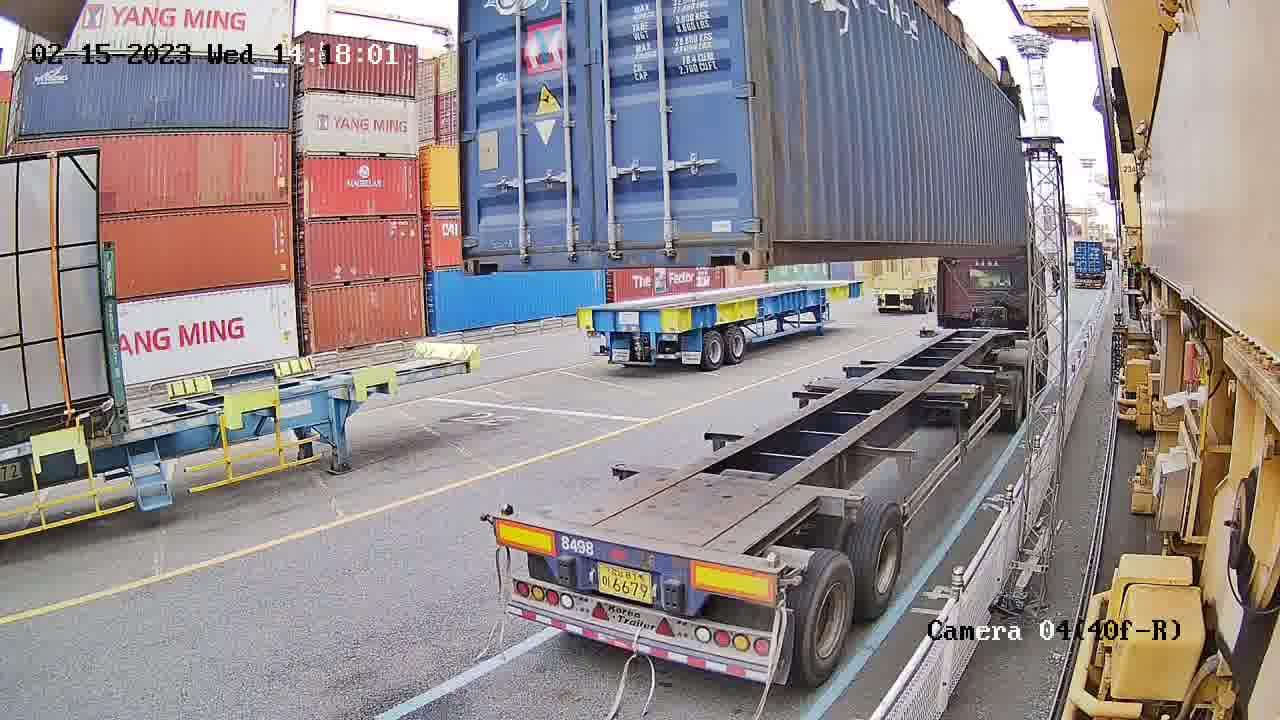Chassis: (495, 519, 783, 617)
Cone: (765, 549, 790, 604), (492, 501, 518, 521)
Hole_L: (758, 200, 810, 267), (460, 214, 501, 275)
Hole_R: (693, 201, 757, 268)
Tire: (795, 555, 858, 687), (857, 501, 907, 616)
